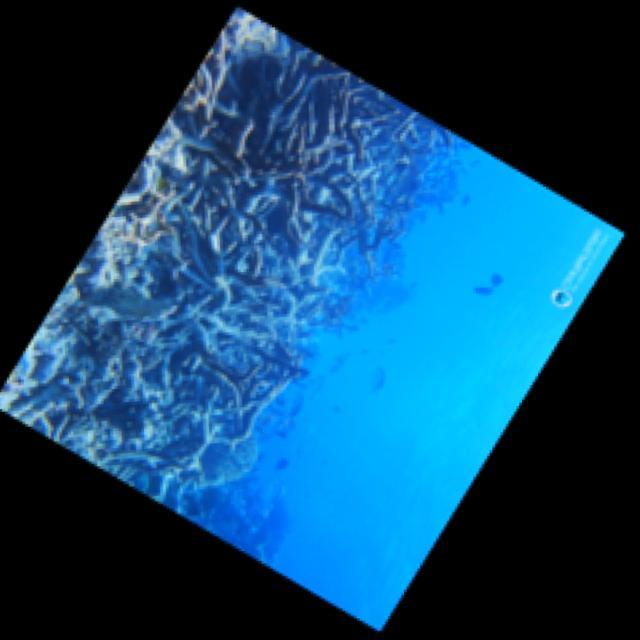Dead Coral: (130, 191, 284, 427), (214, 58, 368, 250)
